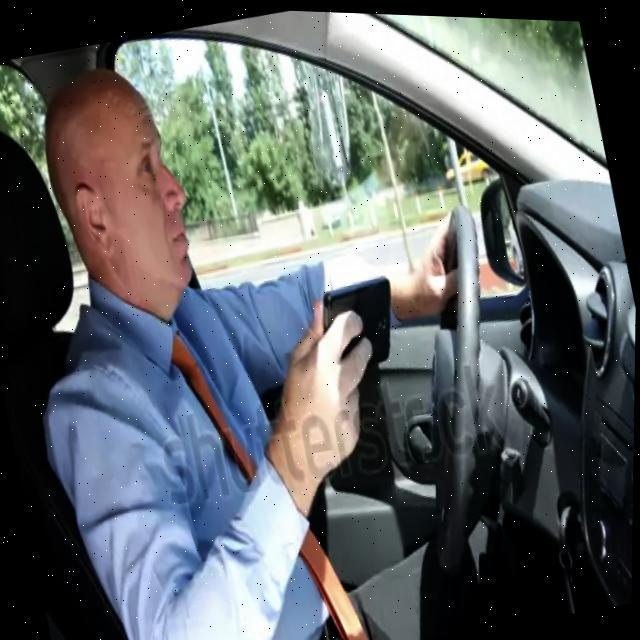PhoneCall: (312, 269, 405, 366)
